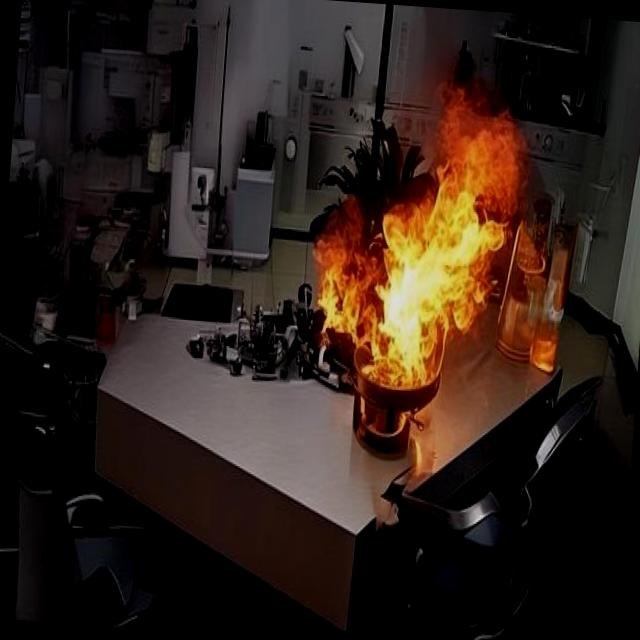fire: (296, 42, 534, 444)
